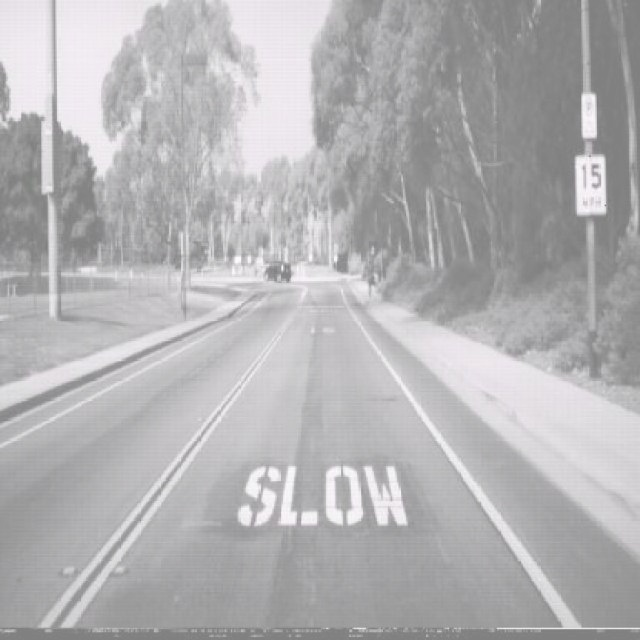speedLimit15: (574, 152, 607, 216)
